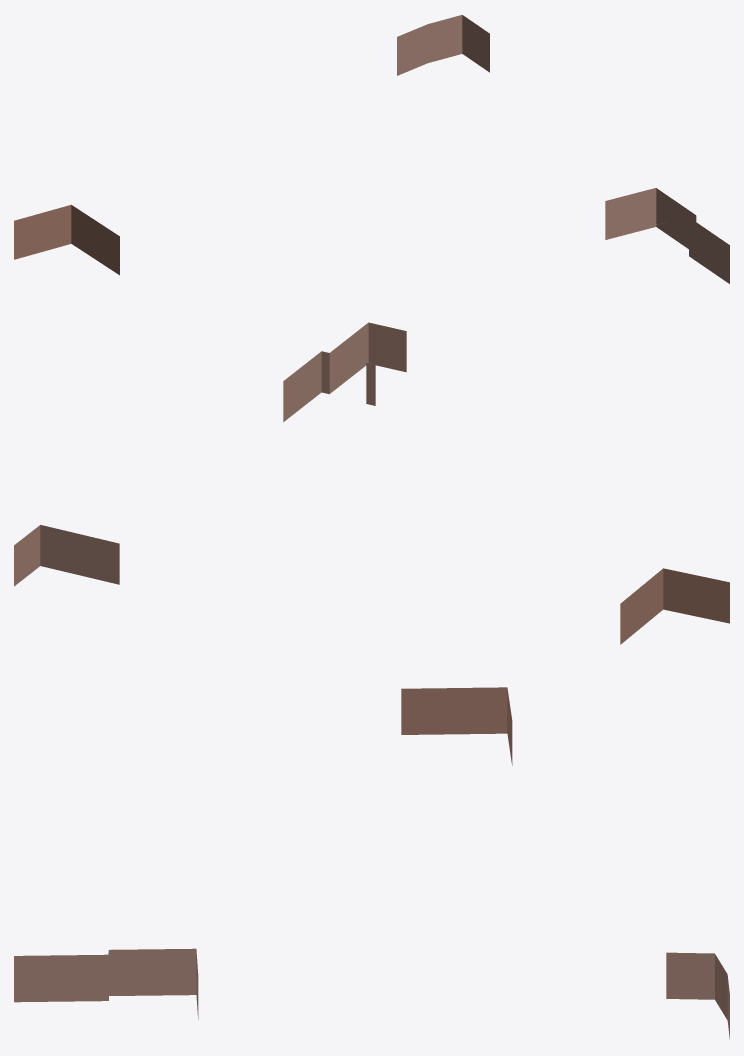
File: c_1632_17837_buildings_residential.glb
The picture shows the model from 3 angles, top to bottom: view 1: azimuth 30°, elevation 25°; view 2: azimuth 150°, elevation 25°; view 3: azimuth 270°, elevation 25°; orthographic projection. The views are drawn at different scales.
Parts seen in each view (by area): view 1: geometry_0; view 2: geometry_0; view 3: geometry_0.
Boxes of the visible parts, <box> form: geometry_0: <box>14,15,729,283</box>; geometry_0: <box>14,322,729,644</box>; geometry_0: <box>14,687,729,1039</box>.
Size of the model in its own units: 160 by 12.45 by 154.
